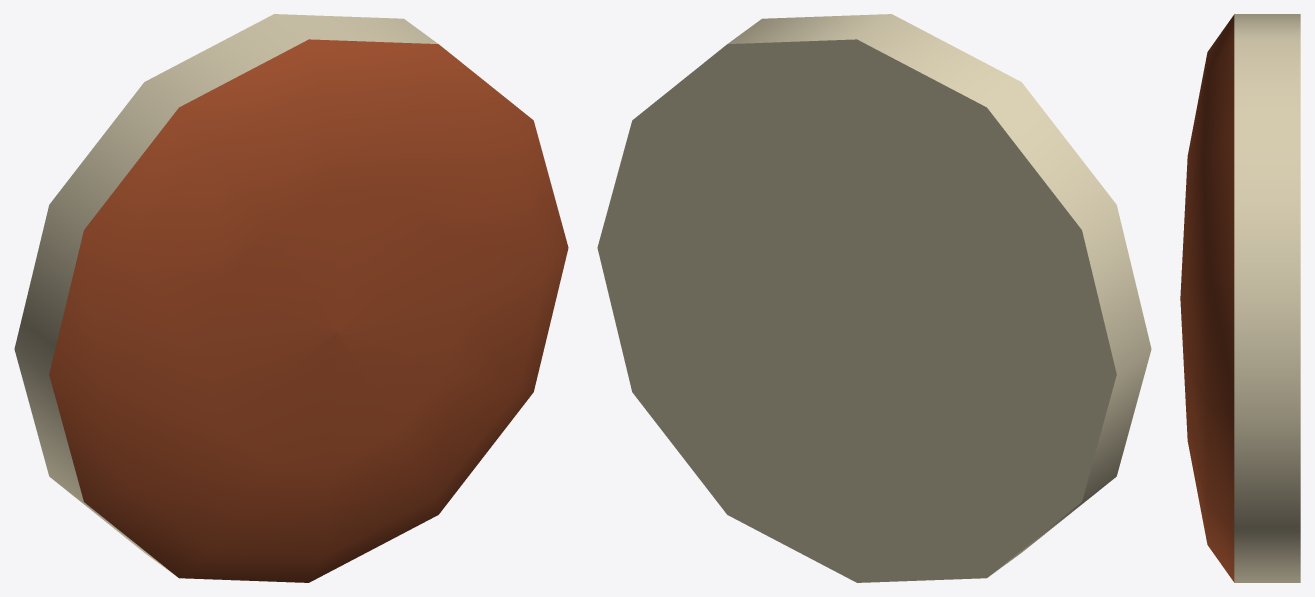
File: pod100_cooler.obj
The picture shows the model from 3 angles, left to right: view 1: azimuth 30°, elevation 25°; view 2: azimuth 150°, elevation 25°; view 3: azimuth 270°, elevation 25°; orthographic projection. The views are drawn at different scales.
Parts seen in each view (by area): view 1: pod100_cooler; view 2: pod100_cooler; view 3: pod100_cooler.
Part boxes in pixels (x1,y1,x2,y2): pod100_cooler: [14, 14, 568, 582]; pod100_cooler: [597, 14, 1151, 582]; pod100_cooler: [1180, 14, 1300, 582].
Bounding box in the file's own units: 1.9 × 1.9 × 0.4.
